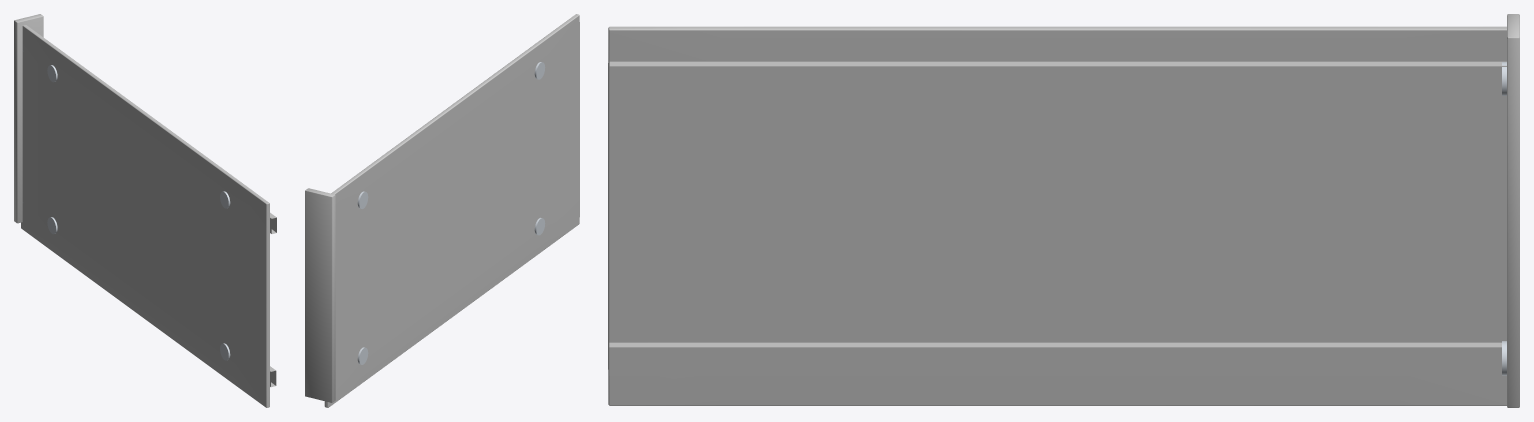
Rendered from SM_Fence.fbx.
The picture shows the model from 3 angles, left to right: view 1: azimuth 30°, elevation 25°; view 2: azimuth 150°, elevation 25°; view 3: azimuth 270°, elevation 25°; orthographic projection. The views are drawn at different scales.
Visible parts, largest first — view 1: SM_Fence_LOD0; view 2: SM_Fence_LOD0; view 3: SM_Fence_LOD0.
Boxes of the visible parts, x1=… form: SM_Fence_LOD0: x1=14, y1=14, x2=276, y2=407; SM_Fence_LOD0: x1=305, y1=14, x2=579, y2=407; SM_Fence_LOD0: x1=608, y1=14, x2=1519, y2=407.
Size of the model in its own units: 12.59 by 200 by 93.23.
3 materials, 1 textured.
